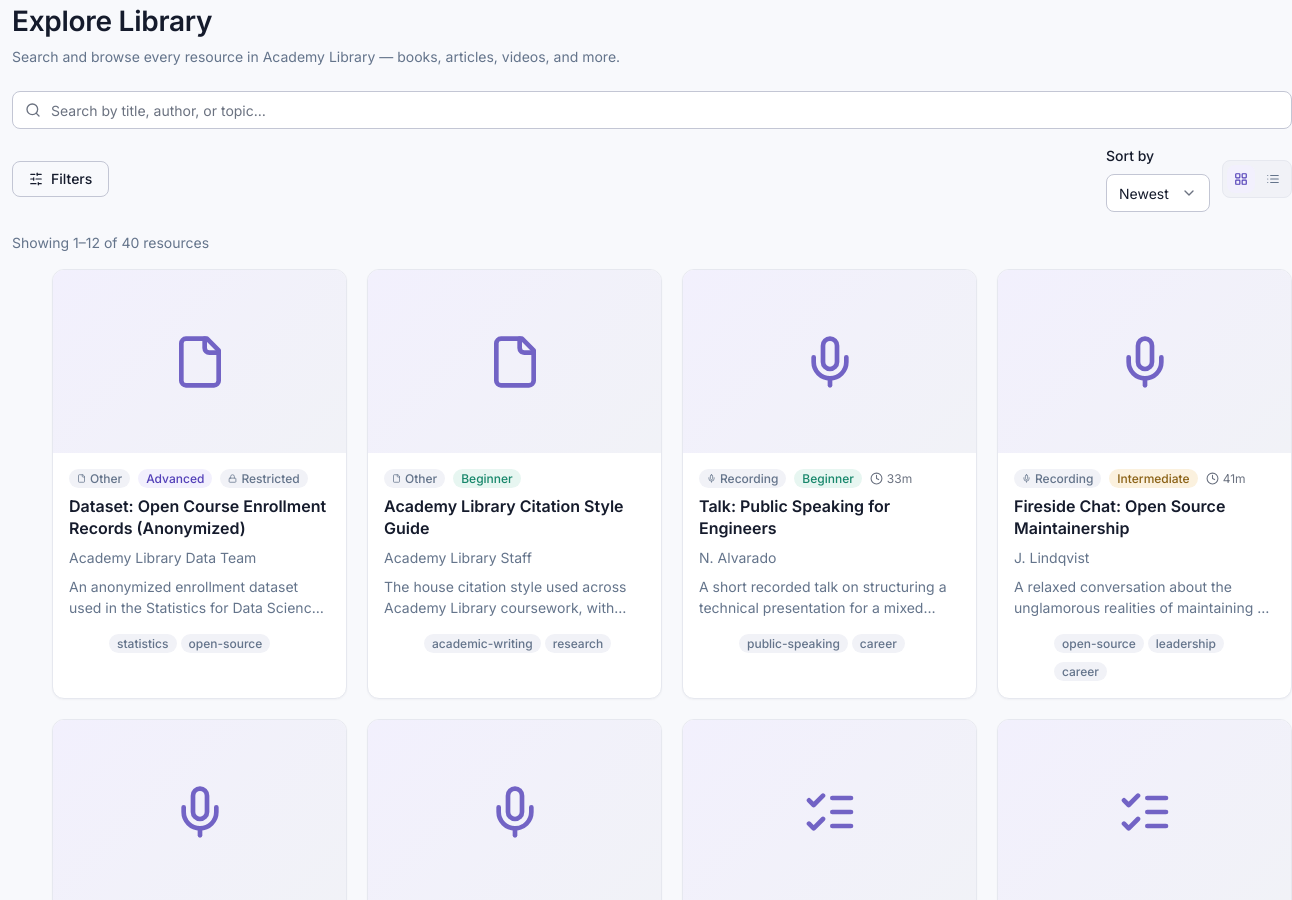
Scenario: LibraryPage › shows a "no results" empty state with a clear action when a search matches nothing
The image size is (1292, 900).
Expected: the text "Showing 1–12 of 40 resources" is shown, [12, 234, 209, 251]
Type "zzzznoresults" into the field named "Search the library" at {"x": 664, "y": 110}, box [49, 92, 1279, 128]
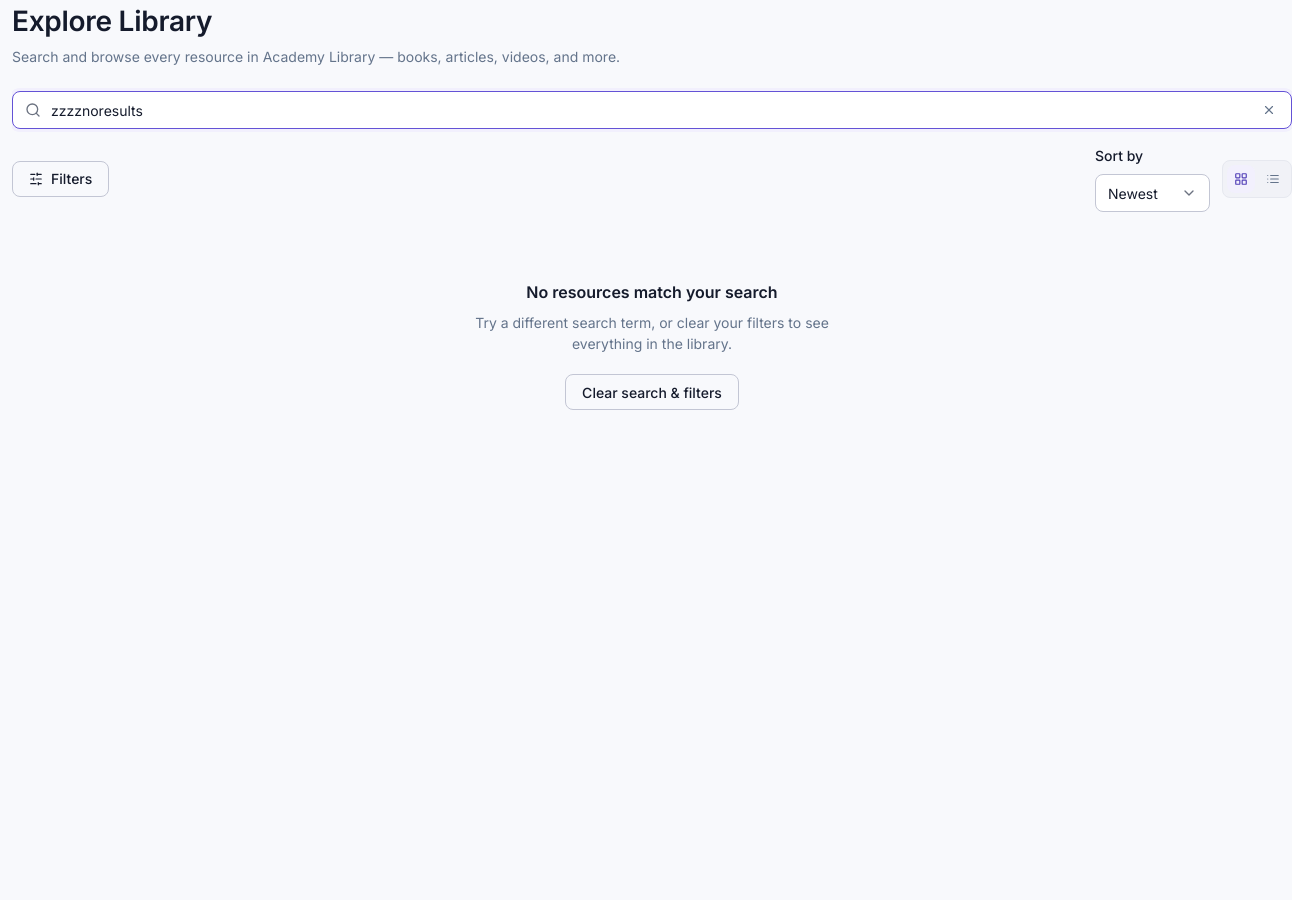
Result: the text "No resources match your search" is shown at [526, 280, 778, 304]
Click the button "Clear search & filters" at {"x": 652, "y": 392}, box [565, 374, 739, 410]
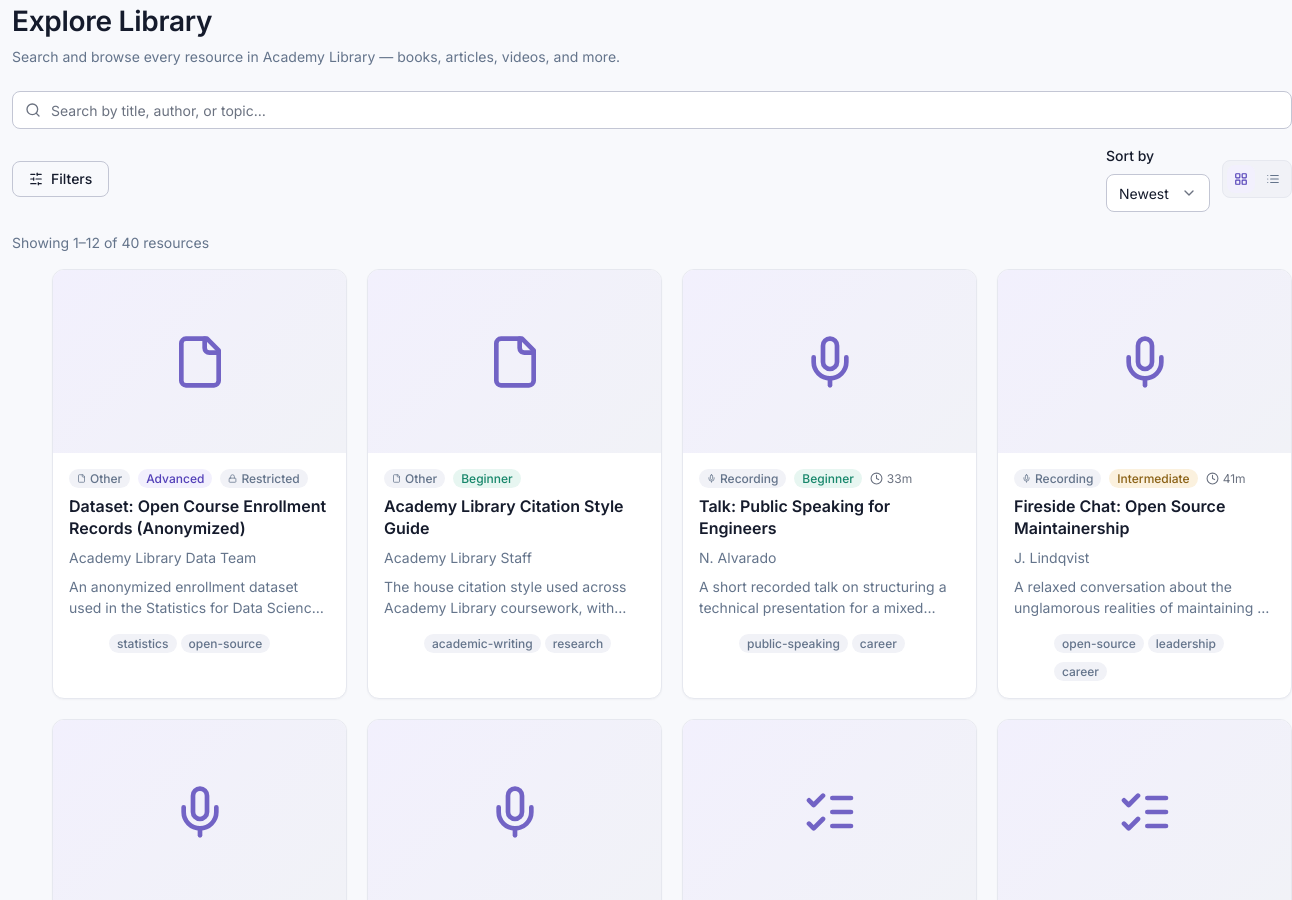
Result: the text "Showing 1–12 of 40 resources" is shown at [12, 234, 209, 251]
